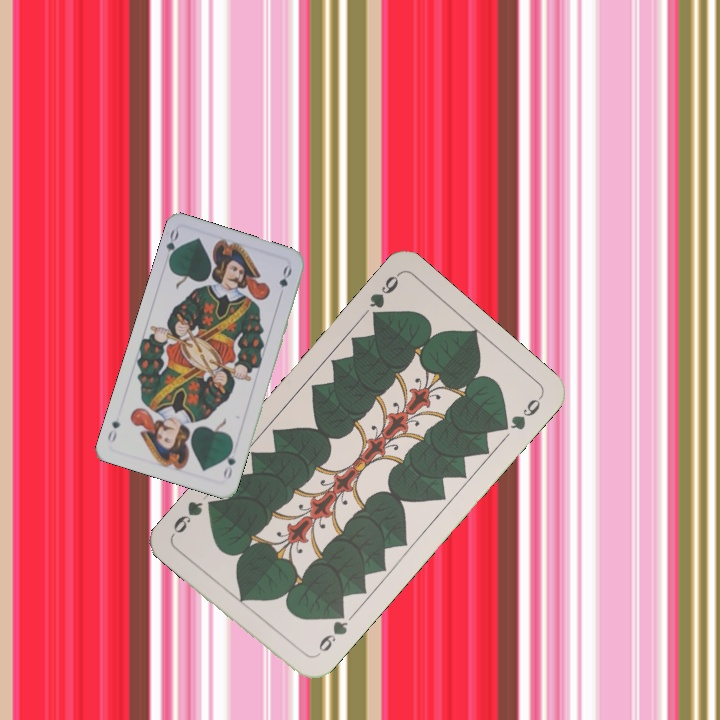G9: (309, 607, 351, 660), (365, 270, 402, 325)
GO: (162, 226, 183, 267), (219, 442, 238, 482)
